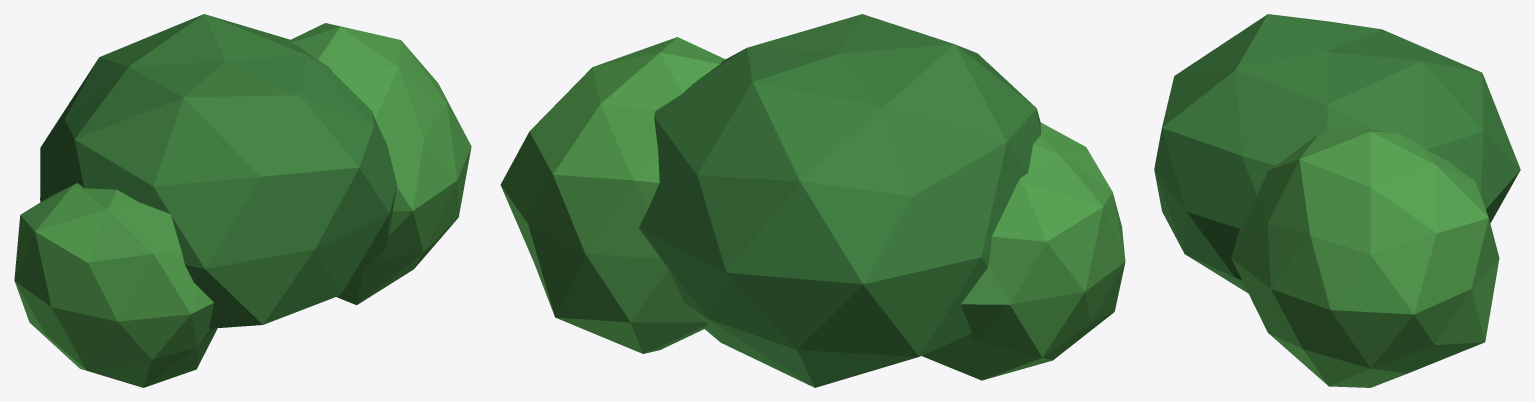
Rendered from bush.glb.
The picture shows the model from 3 angles, left to right: view 1: azimuth 30°, elevation 25°; view 2: azimuth 150°, elevation 25°; view 3: azimuth 270°, elevation 25°; orthographic projection. The views are drawn at different scales.
Visible parts, largest first — view 1: Bush; view 2: Bush; view 3: Bush.
Boxes of the visible parts, x1,y1,x2,y2 form: Bush: (14,14,471,387); Bush: (500,14,1125,387); Bush: (1154,14,1520,387).
Bounding box in the file's own units: 1.21 × 0.6966 × 0.8397.
